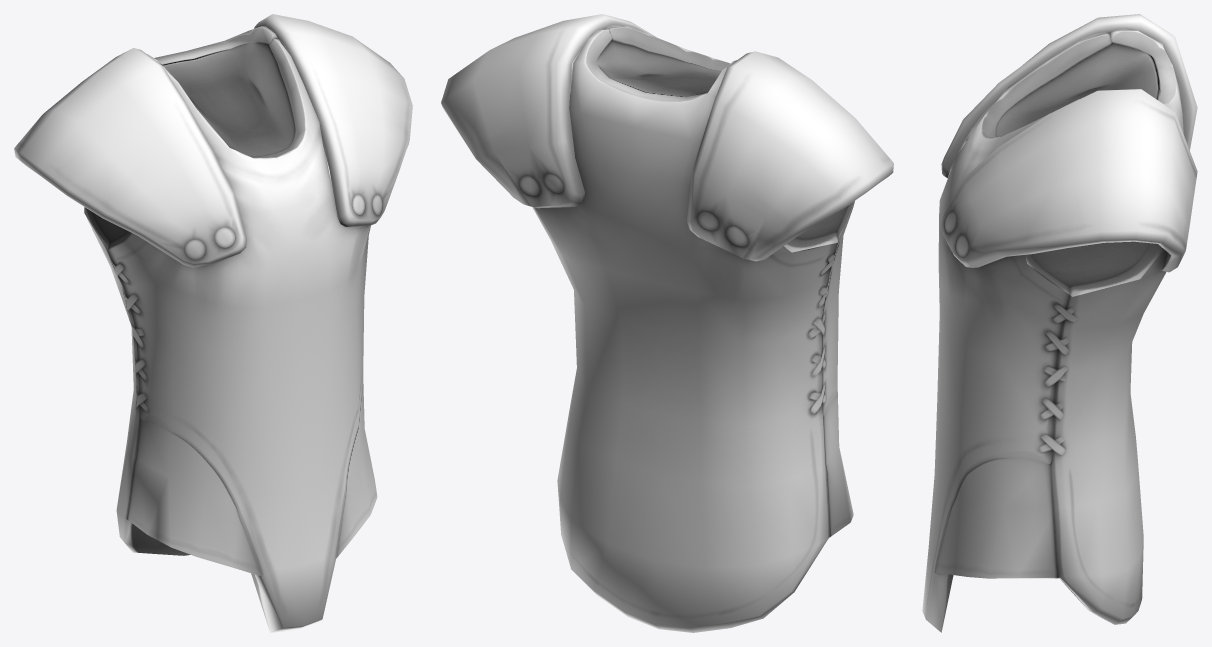
Rendered from 032_a_leather_vest_lp.fbx.
3 views of the same model, side by side, from view 1: azimuth 30°, elevation 25°; view 2: azimuth 150°, elevation 25°; view 3: azimuth 270°, elevation 25° (orthographic). The views are drawn at different scales.
Visible parts, largest first — view 1: 032_leather_vest; view 2: 032_leather_vest; view 3: 032_leather_vest.
Part boxes in pixels (x1,y1,x2,y2): 032_leather_vest: [14, 14, 412, 632]; 032_leather_vest: [441, 14, 893, 632]; 032_leather_vest: [922, 14, 1197, 632].
Size of the model in its own units: 51.25 by 69.93 by 30.72.
